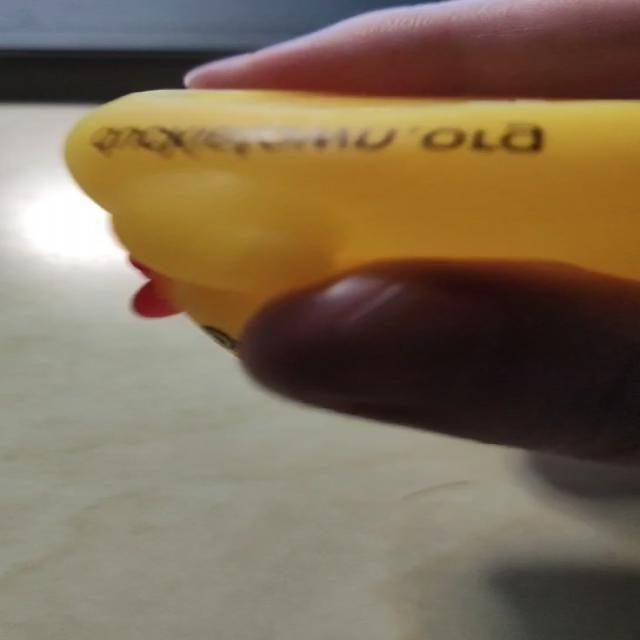rubber-duck: (64, 89, 638, 345)
